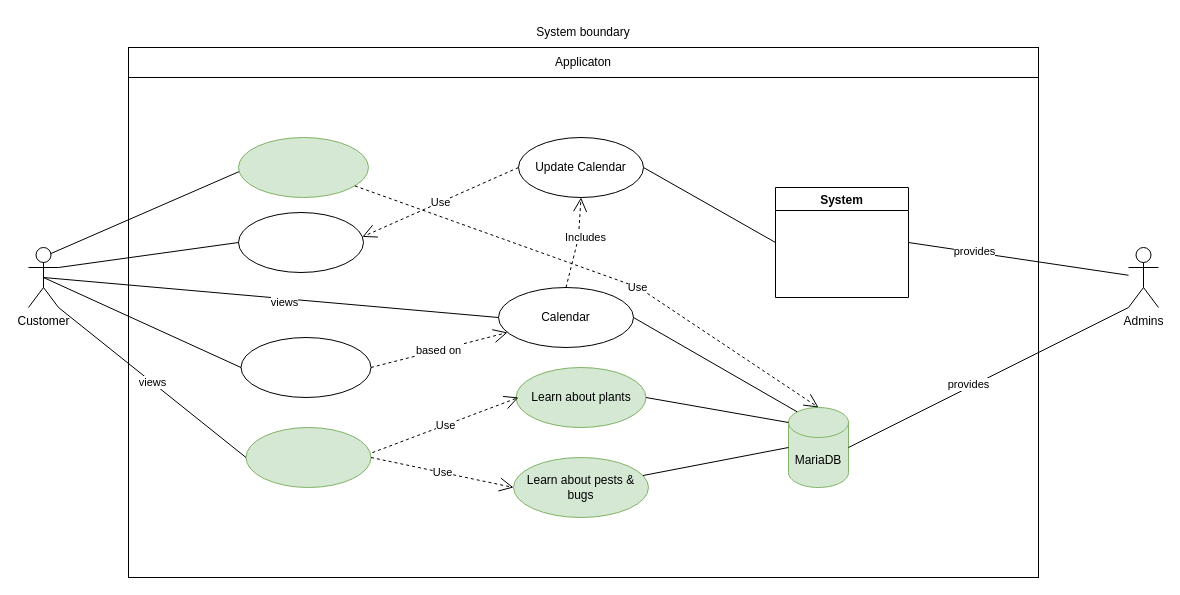
Image size: 1180x595. Some labels were removed from this diagram. Each missing label, with the box of its shape:
Get reminders: (240, 336, 371, 398)
Login: (238, 136, 368, 198)
Register Plants: (238, 212, 364, 272)
Wiki: (245, 426, 371, 488)
